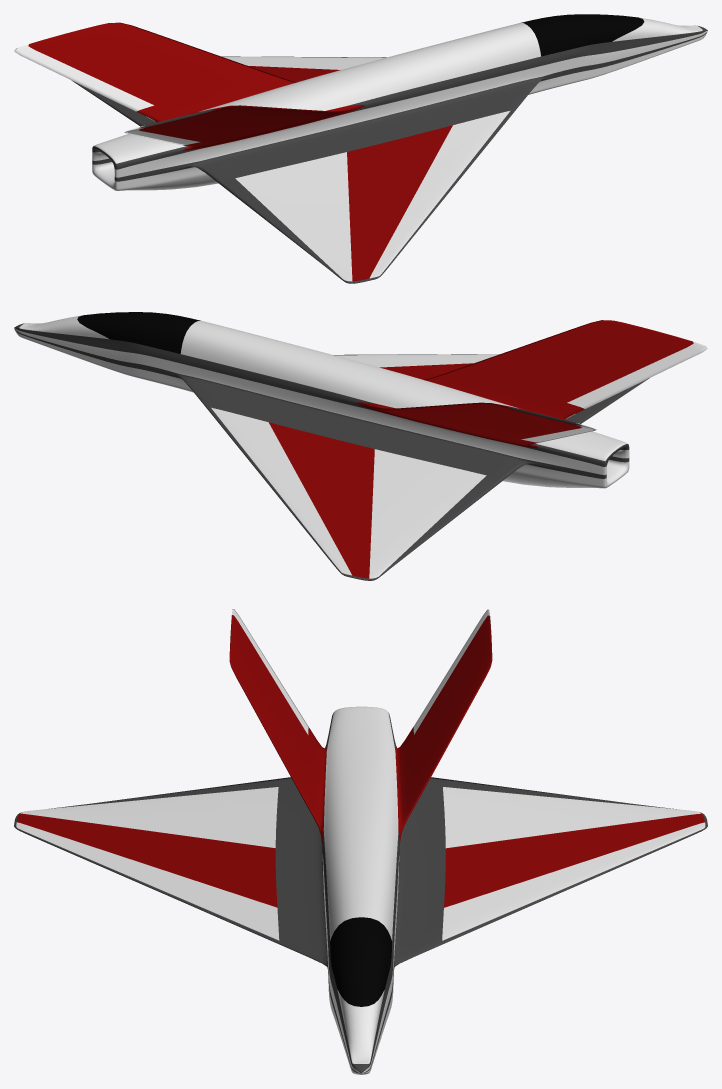
The model's file is StarShip.fbx.
3 views of the same model, one above another, from view 1: azimuth 30°, elevation 25°; view 2: azimuth 150°, elevation 25°; view 3: azimuth 270°, elevation 25° (orthographic). The views are drawn at different scales.
Parts seen in each view (by area): view 1: pCube1; view 2: pCube1; view 3: pCube1.
Boxes of the visible parts, box(x1,y1,x2,y2) form: pCube1: box(14, 14, 707, 283); pCube1: box(14, 312, 707, 580); pCube1: box(14, 609, 707, 1074).
Size of the model in its own units: 91.24 by 17.6 by 75.02.
